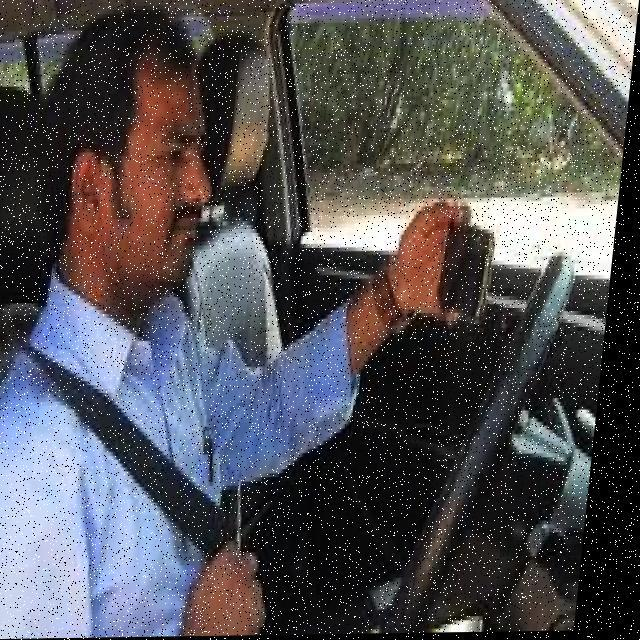seatbelt: (0, 257, 253, 640)
